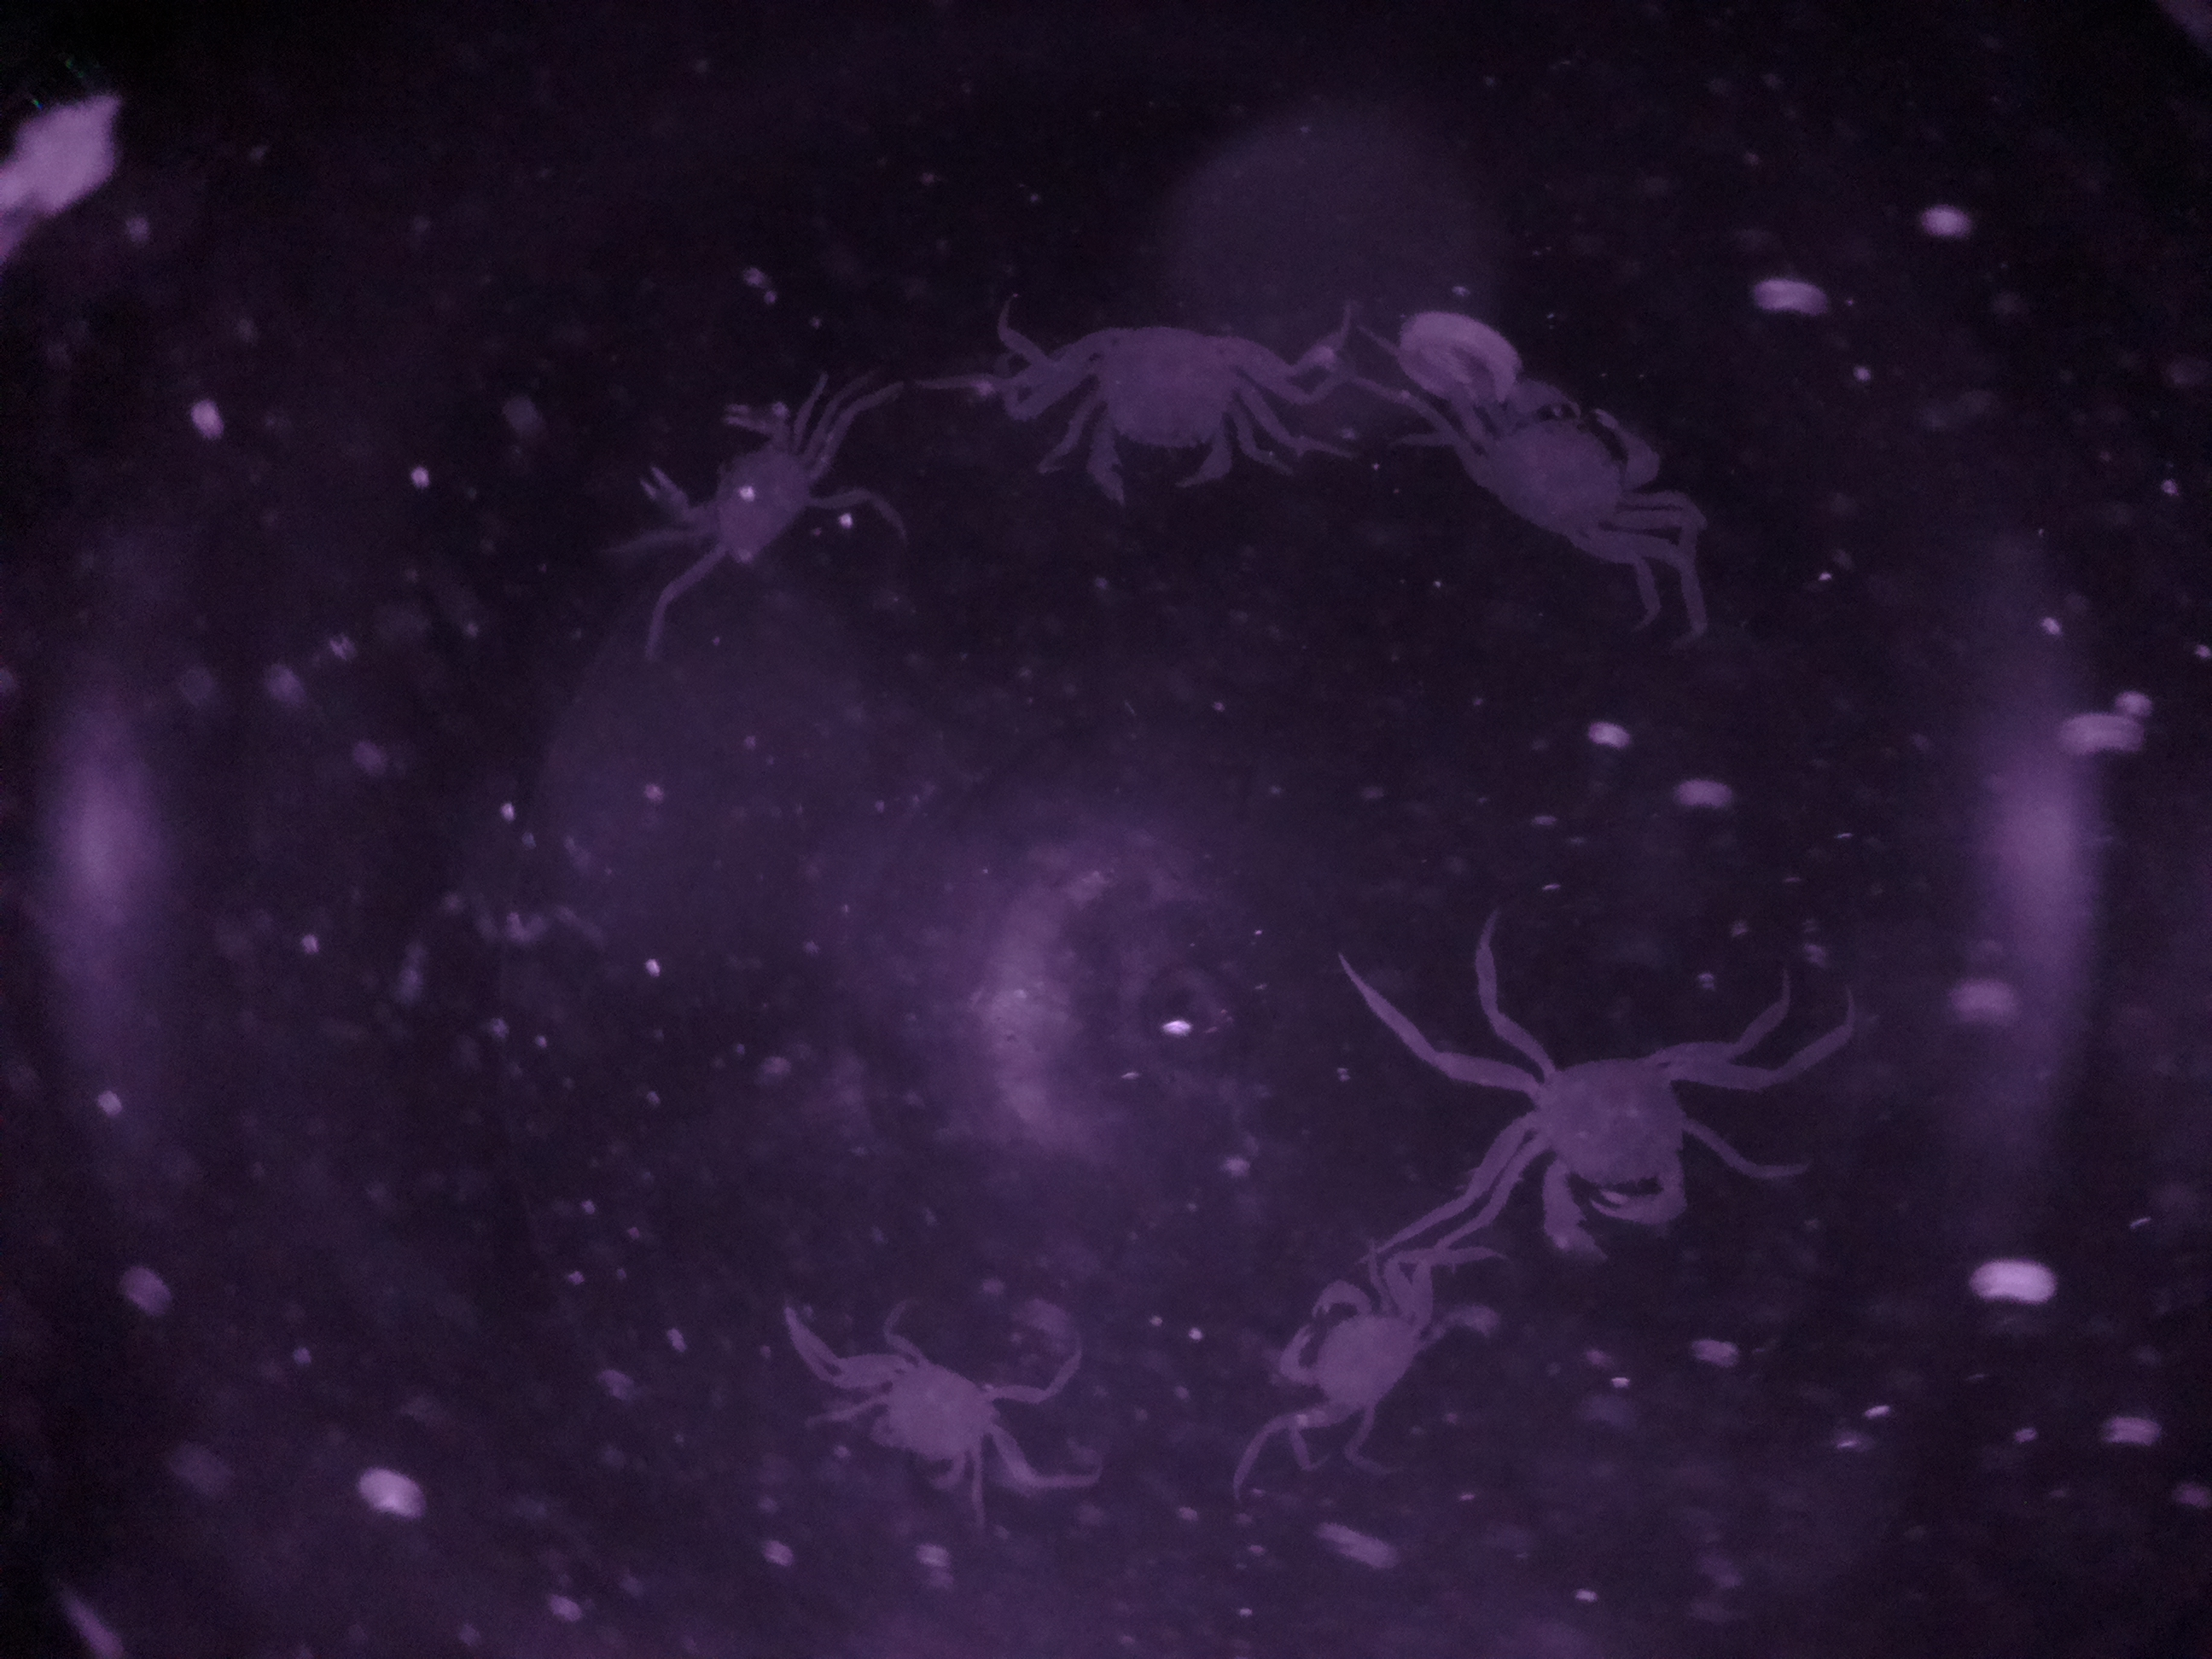Crab: (1489, 1007, 1797, 1283), (1399, 366, 1681, 596), (1052, 296, 1305, 526), (1238, 1244, 1480, 1474), (632, 378, 867, 598), (812, 1326, 1033, 1525)
